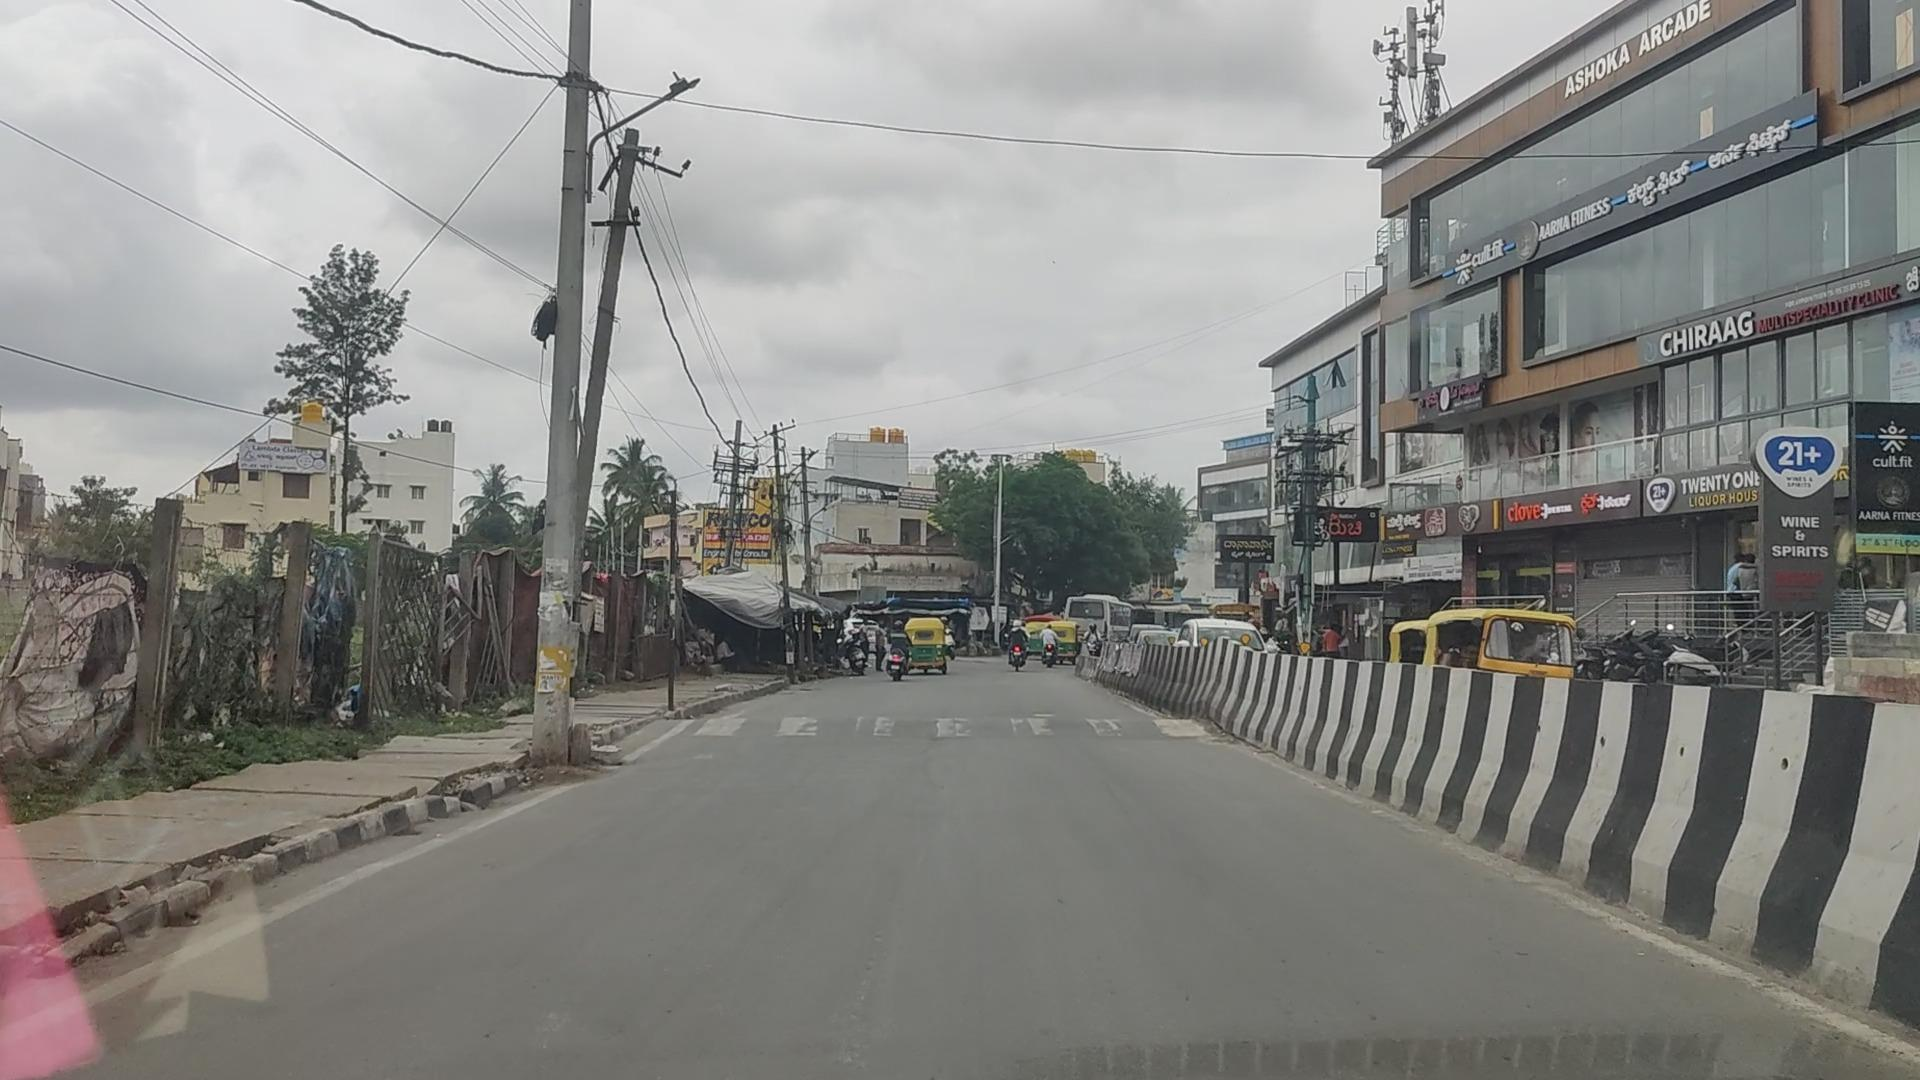SpeedBump: (673, 705, 1213, 742)
